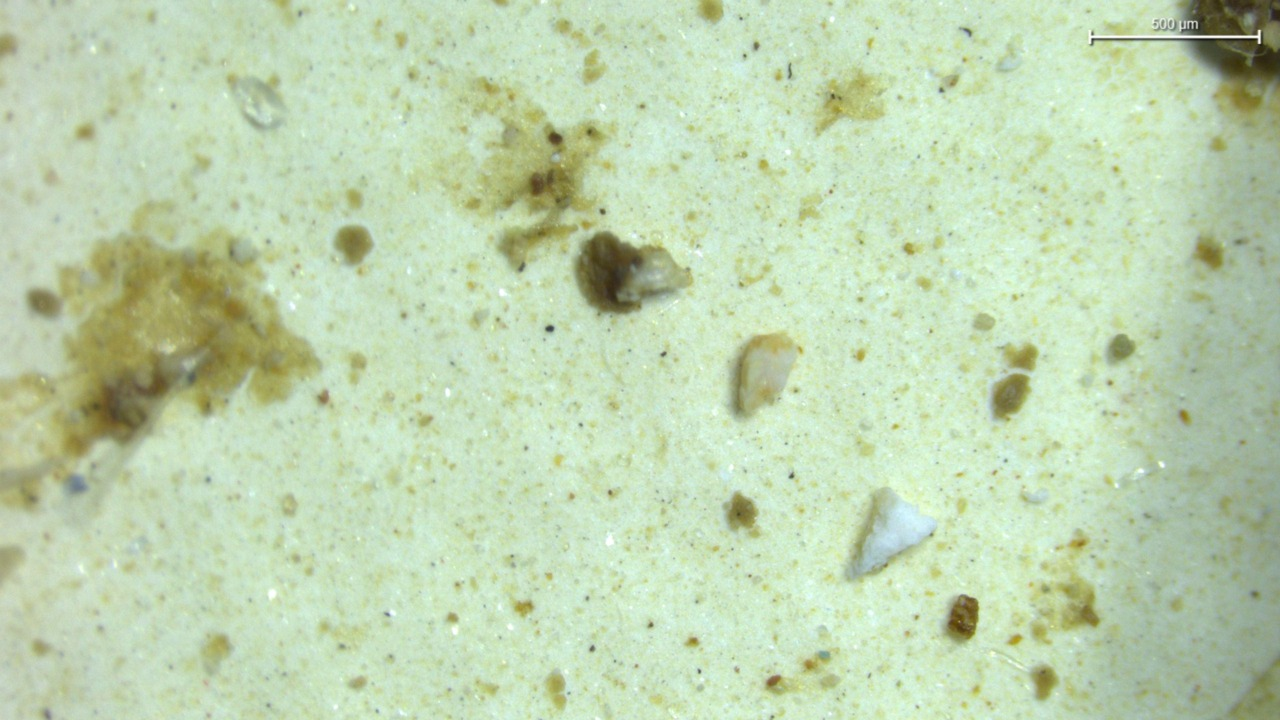microplastic_fragment: (849, 487, 936, 578), (735, 333, 799, 414), (617, 247, 690, 302)
